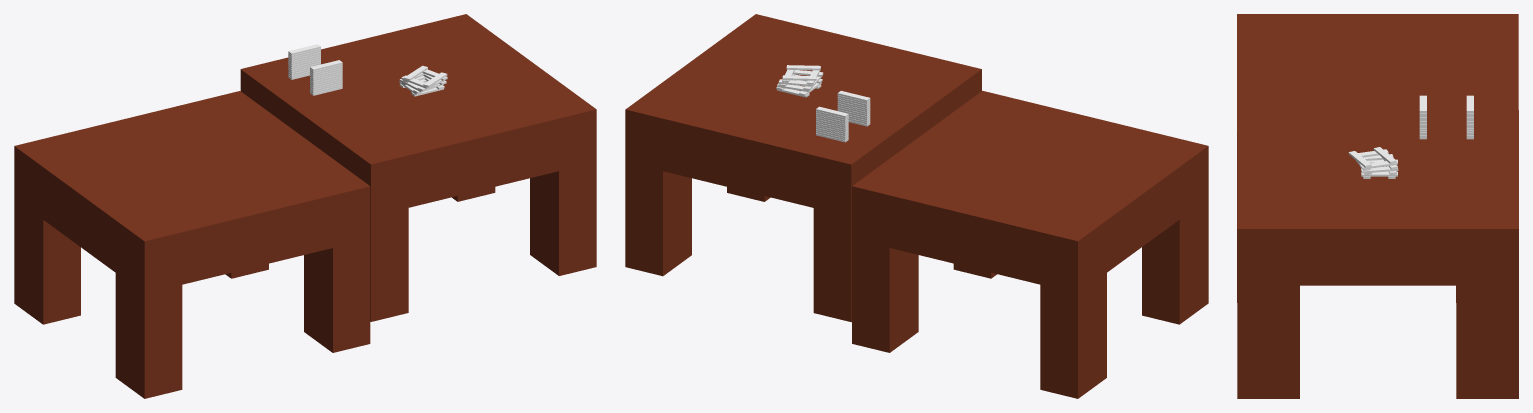
File: keva_spiral_14.dae
3 views of the same model, side by side, from view 1: azimuth 30°, elevation 25°; view 2: azimuth 150°, elevation 25°; view 3: azimuth 270°, elevation 25° (orthographic). The views are drawn at different scales.
Visible parts, largest first — view 1: base (×7); view 2: base (×7); view 3: base (×4).
Boxes of the visible parts, bbox=[...] form: base (×7): bbox=[14, 14, 596, 398]; base (×7): bbox=[625, 14, 1208, 398]; base (×4): bbox=[1237, 14, 1518, 398].
Bounding box in the file's own units: 1.8 × 0.9009 × 0.783.
